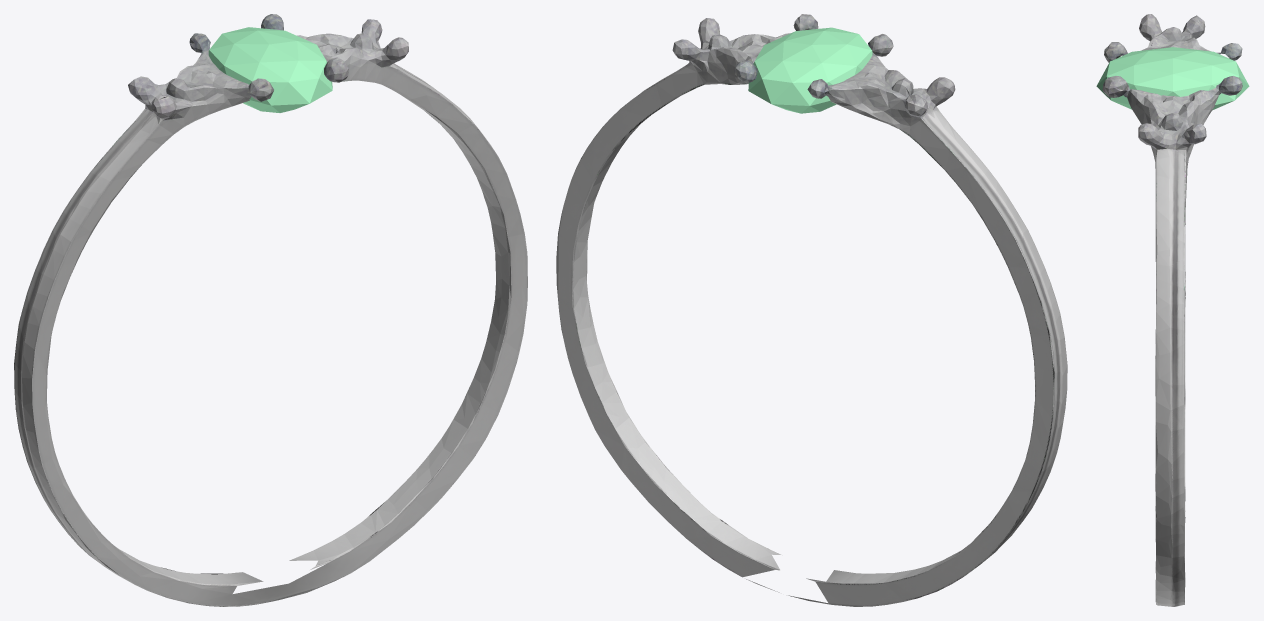
The model's file is ring2pieces.glb.
3 renders of one model, left to right at view 1: azimuth 30°, elevation 25°; view 2: azimuth 150°, elevation 25°; view 3: azimuth 270°, elevation 25°, orthographic. The views are drawn at different scales.
Parts seen in each view (by area): view 1: world.001, Icosphere; view 2: world.001, Icosphere; view 3: world.001, Icosphere.
Part boxes in pixels (box(x1,y1,x2,y2)): world.001: box(14, 14, 527, 606); Icosphere: box(208, 27, 332, 112); world.001: box(556, 14, 1067, 606); Icosphere: box(748, 27, 872, 113); world.001: box(1102, 14, 1242, 606); Icosphere: box(1096, 47, 1249, 110).
Size of the model in its own units: 0.9215 by 0.9664 by 0.2573.
Materials: 2 (1 with a texture image).
